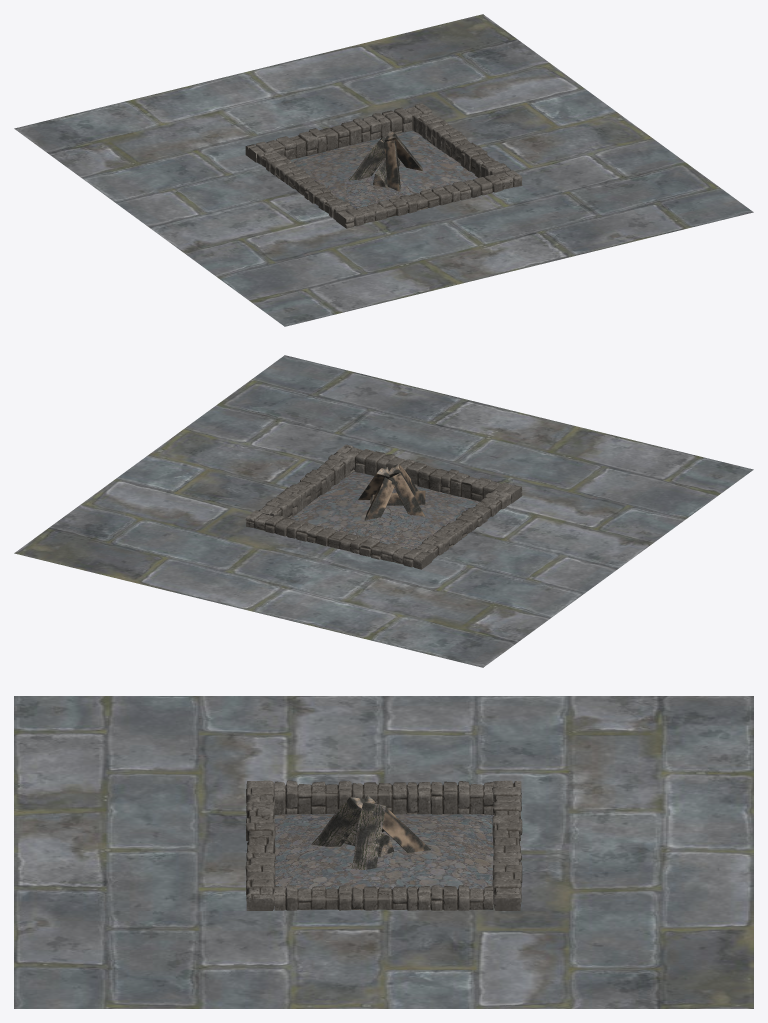
File: SM_Fire_Pit.glb
The picture shows the model from 3 angles, top to bottom: view 1: azimuth 30°, elevation 25°; view 2: azimuth 150°, elevation 25°; view 3: azimuth 270°, elevation 25°; orthographic projection. The views are drawn at different scales.
Parts seen in each view (by area): view 1: SM_Fire_Pit; view 2: SM_Fire_Pit; view 3: SM_Fire_Pit.
Boxes of the visible parts, <box> form: SM_Fire_Pit: <box>14,14,753,326</box>; SM_Fire_Pit: <box>14,355,753,667</box>; SM_Fire_Pit: <box>14,696,753,1008</box>.
Bounding box in the file's own units: 6 × 0.6159 × 6.
4 materials, 4 textured.
